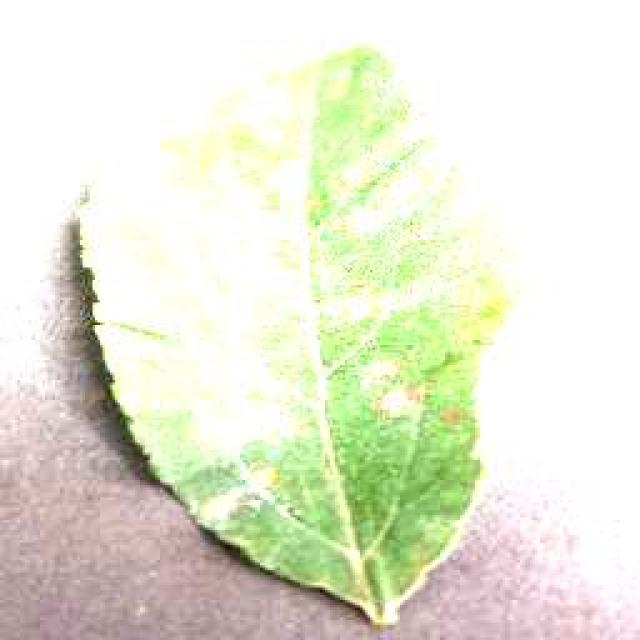apple scab disease: (68, 40, 518, 630)
